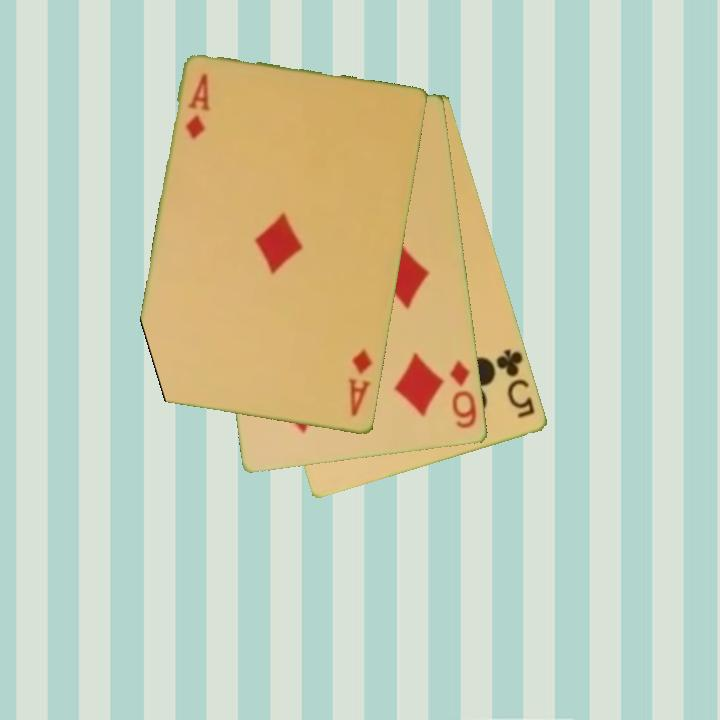5c: (493, 345, 538, 421)
6d: (446, 356, 480, 432)
Ad: (182, 70, 214, 143), (345, 345, 376, 420)
